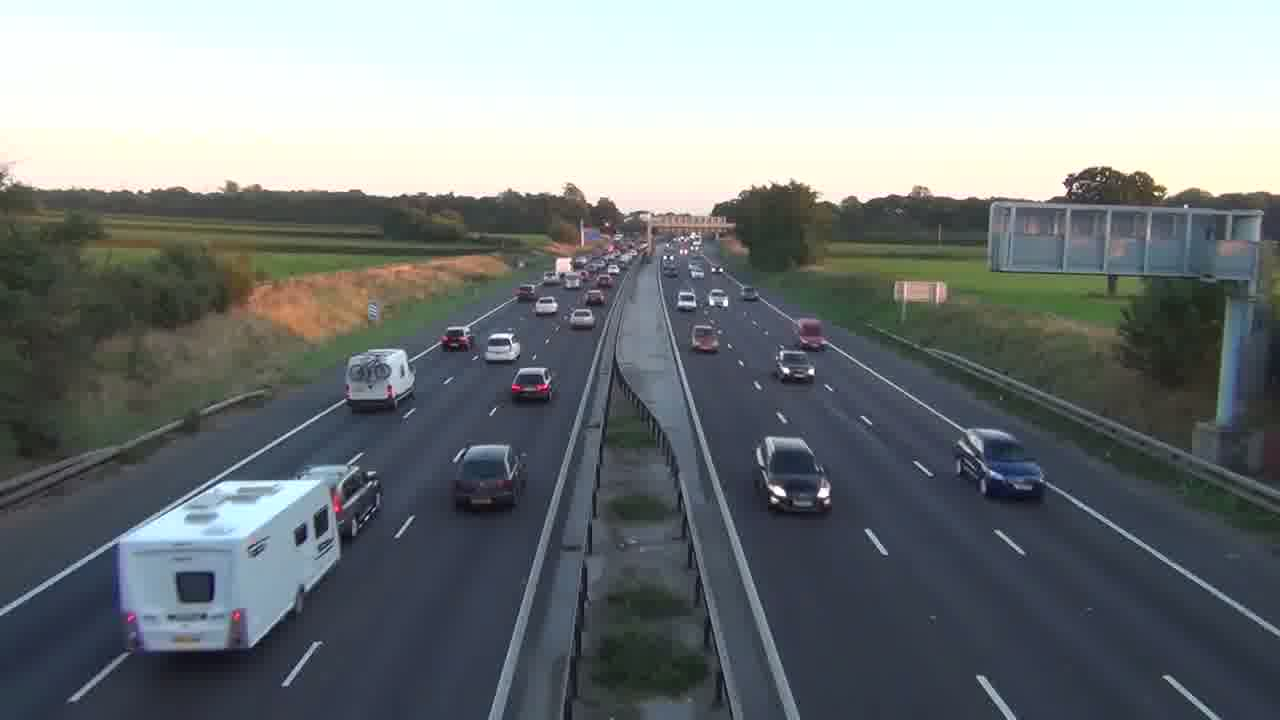bus: (344, 347, 416, 412)
car: (952, 427, 1044, 500), (299, 463, 384, 540), (753, 434, 833, 515), (450, 443, 529, 513), (509, 367, 555, 402), (775, 346, 816, 384), (484, 332, 521, 363), (568, 306, 594, 329), (533, 295, 558, 315)
truck: (116, 477, 342, 657), (952, 427, 1044, 500), (753, 434, 833, 515)
